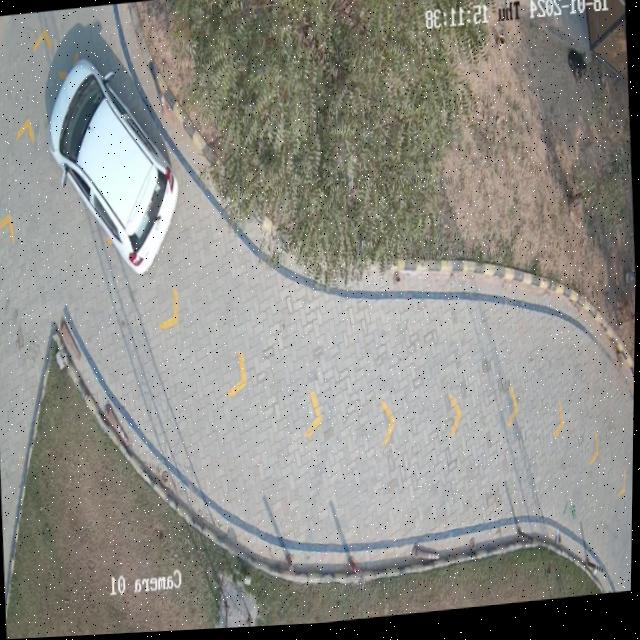car: (48, 57, 179, 278)
